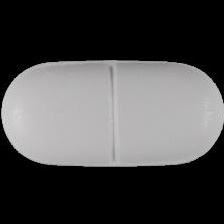76237-181: (0, 0, 224, 224)
